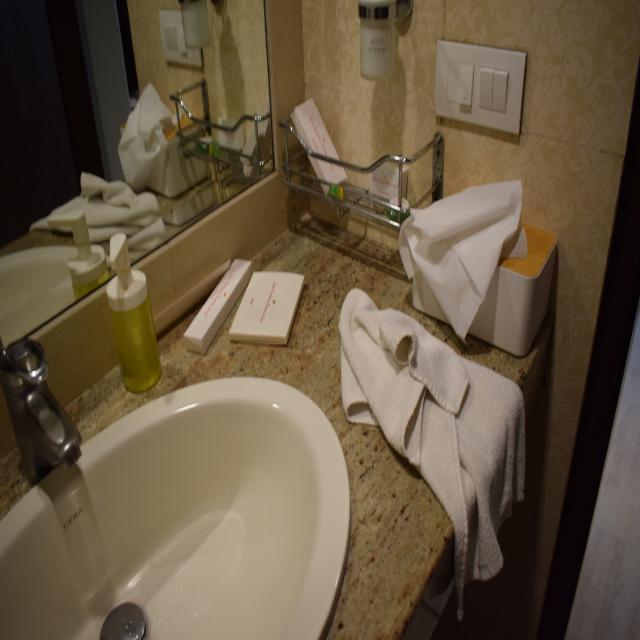mess: (0, 110, 558, 639)
